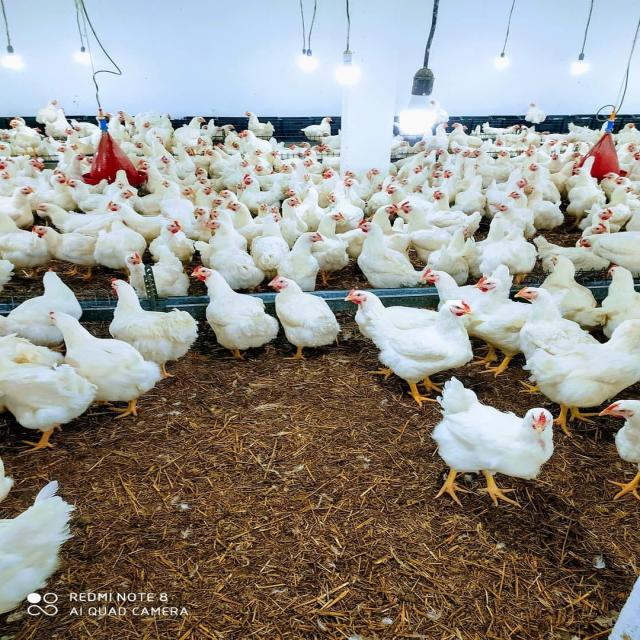Healthy: (420, 375, 571, 522), (376, 296, 483, 410), (98, 267, 201, 373), (188, 260, 280, 365), (262, 271, 342, 363), (352, 217, 424, 289)
